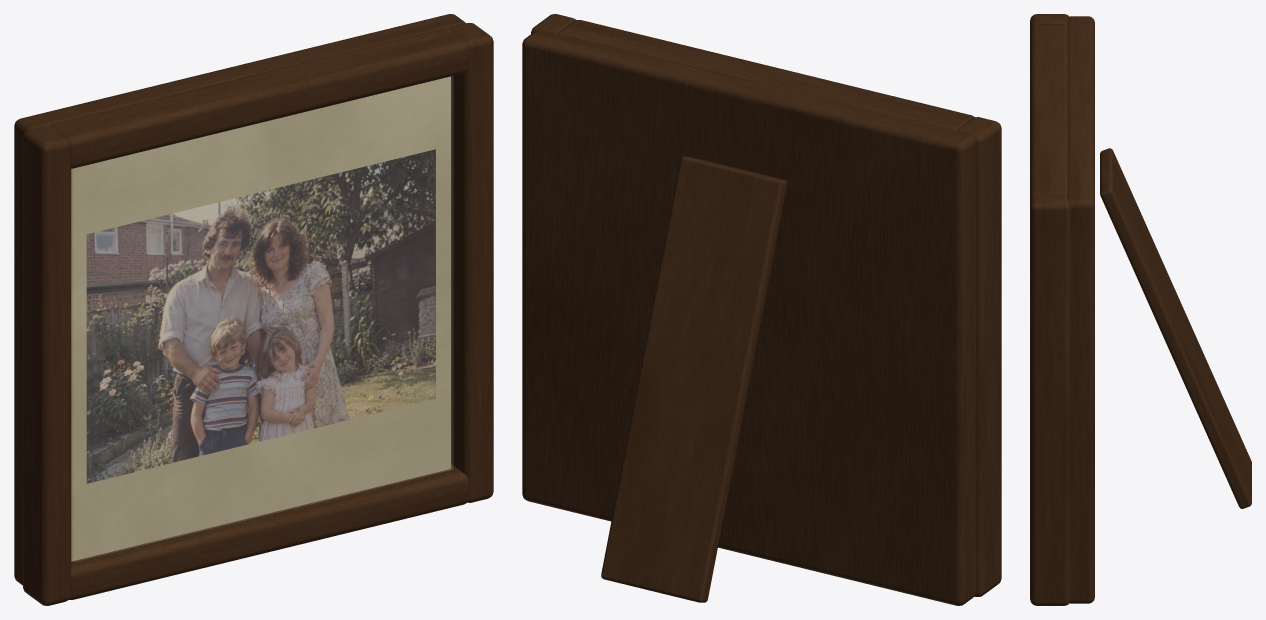
The model's file is family_photo.glb.
3 renders of one model, left to right at view 1: azimuth 30°, elevation 25°; view 2: azimuth 150°, elevation 25°; view 3: azimuth 270°, elevation 25°, orthographic. The views are drawn at different scales.
Parts seen in each view (by area): view 1: Thin protective glazing, Fictional 1980s family photograph, Photograph mount, Frame side, Frame cross rail.001, Frame side.001, Frame cross rail, Photo frame back; view 2: Photo frame back, Folding easel, Frame side, Frame cross rail.001; view 3: Frame side.001, Photo frame back, Folding easel, Frame cross rail.001, Frame side.
Part boxes in pixels (x1=…): Thin protective glazing: x1=73, y1=76, x2=452, y2=561; Fictional 1980s family photograph: x1=86, y1=149, x2=435, y2=483; Photograph mount: x1=71, y1=76, x2=450, y2=561; Frame side: x1=23, y1=126, x2=71, y2=605; Frame cross rail.001: x1=50, y1=28, x2=468, y2=168; Frame side.001: x1=448, y1=23, x2=493, y2=502; Frame cross rail: x1=69, y1=464, x2=468, y2=599; Photo frame back: x1=14, y1=14, x2=465, y2=585; Photo frame back: x1=522, y1=29, x2=975, y2=605; Folding easel: x1=601, y1=156, x2=787, y2=602; Frame side: x1=956, y1=117, x2=1001, y2=596; Frame cross rail.001: x1=558, y1=20, x2=974, y2=130; Frame side.001: x1=1030, y1=193, x2=1070, y2=605; Photo frame back: x1=1067, y1=16, x2=1094, y2=603; Folding easel: x1=1100, y1=148, x2=1251, y2=508; Frame cross rail.001: x1=1030, y1=24, x2=1067, y2=199; Frame side: x1=1030, y1=14, x2=1068, y2=29.
Bounding box in the file's own units: 0.266 × 0.26 × 0.1295.
Materials: 4 (3 with a texture image).
